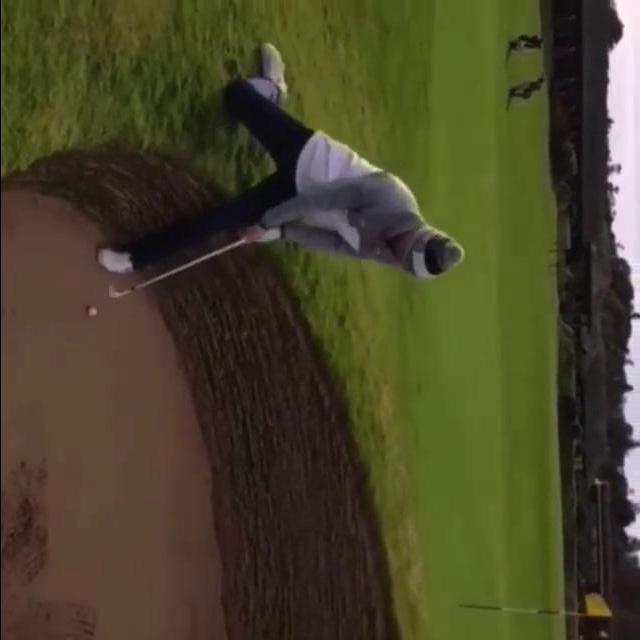ClubHandle: (105, 239, 240, 300)
ClubHead: (106, 284, 118, 298)
GolfBall: (86, 306, 96, 317)
